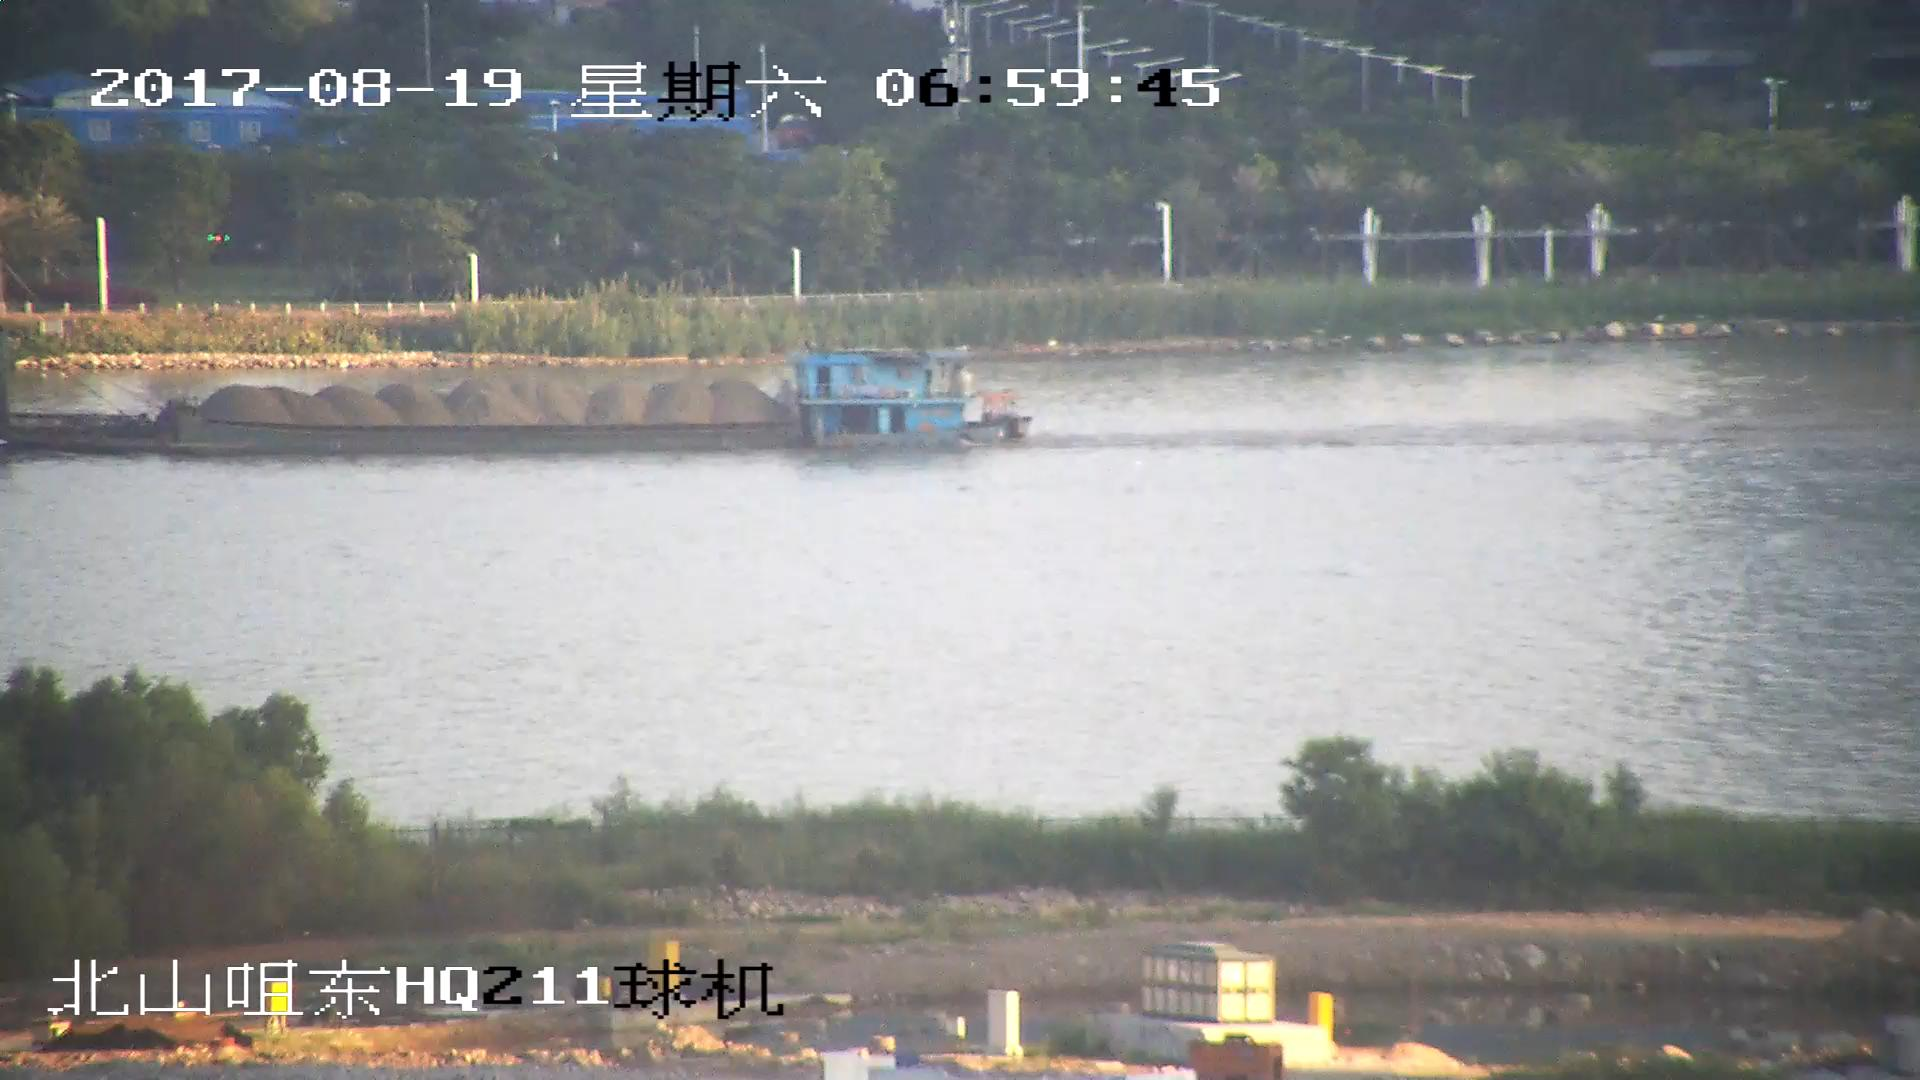ore carrier: (1, 344, 1029, 455)
